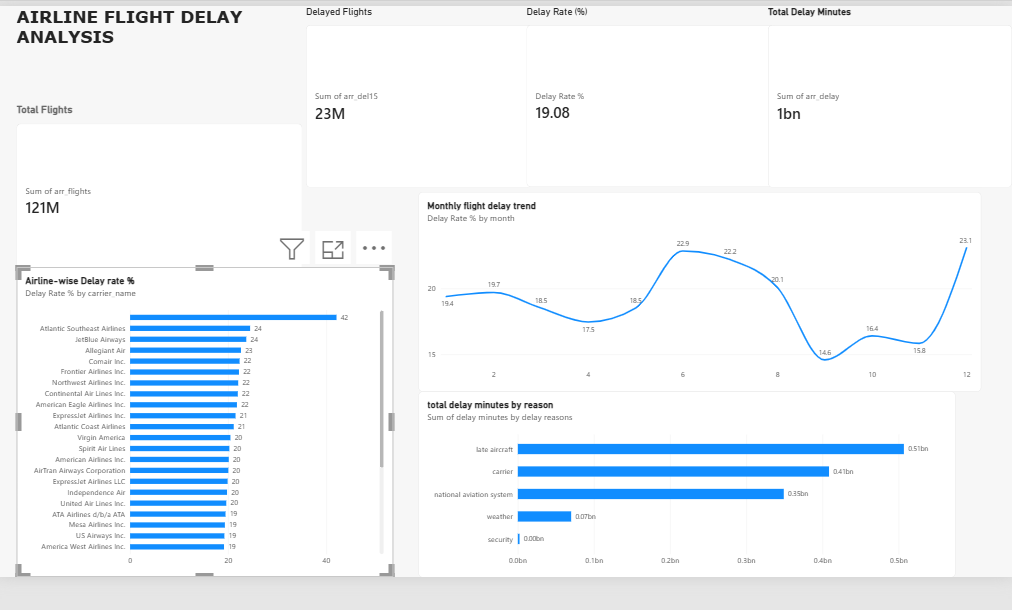

Layout of this report page (visuals, bound fields, positions):
{"tool":"powerbi","page":{"name":"Page 1","canvas":[1920,1080],"ordinal":0},"visuals":[{"type":"cardVisual","title":"Total Flights","fields":{"Data":["Sum(Airline_Delay_Cause.arr_flights)"]},"box":[33.3,0,540,331.7],"z":0},{"type":"cardVisual","title":"Delayed Flights","fields":{"Data":["Sum(Airline_Delay_Cause.arr_del15)"]},"box":[573.3,0,426.7,343.3],"z":1},{"type":"cardVisual","title":"Delay Rate (%)","fields":{"Data":["Airline_Delay_Cause.Delay Rate %"]},"box":[1000,0,473.4,343],"z":2},{"type":"cardVisual","title":"Total Delay Minutes","fields":{"Data":["Sum(Airline_Delay_Cause.arr_delay)"]},"box":[1456.7,0,461.7,343.3],"z":3},{"type":"clusteredBarChart","title":"Airline-wise Delay rate %","fields":{"Category":["Airline_Delay_Cause.carrier_name"],"Y":["Airline_Delay_Cause.Delay Rate %"]},"box":[34,343,711.5,470.6],"z":4},{"type":"lineChart","title":"Monthly flight delay trend","fields":{"Category":["Airline_Delay_Cause.month"],"Y":["Airline_Delay_Cause.Delay Rate %"]},"box":[745.5,411,711.5,377],"z":5},{"type":"clusteredBarChart","fields":{"Y":["Sum(Airline_Delay_Cause.carrier_delay)","Sum(Airline_Delay_Cause.security_delay)","Sum(Airline_Delay_Cause.late_aircraft_delay)","Sum(Airline_Delay_Cause.nas_delay)","Sum(Airline_Delay_Cause.weather_delay)"]},"box":[34,824,712,256],"z":6},{"type":"clusteredBarChart","title":"total delay minutes by reason","fields":{"Category":["Table.delay reasons"],"Y":["Sum(Table.delay minutes)"]},"box":[746,824,712,256],"z":7}]}

Visuals, with their boxes on the page's 1920x1080 design canvas (x1, y1, x2, y2). These are canvas units, not pixel positions in the 1012x610 screenshot, which may show the page scaled, cropped or inside an application window:
"Total Flights" cardVisual: region(33, 0, 573, 332)
"Delayed Flights" cardVisual: region(573, 0, 1000, 343)
"Delay Rate (%)" cardVisual: region(1000, 0, 1473, 343)
"Total Delay Minutes" cardVisual: region(1457, 0, 1918, 343)
"Airline-wise Delay rate %" clusteredBarChart: region(34, 343, 746, 814)
"Monthly flight delay trend" lineChart: region(746, 411, 1457, 788)
clusteredBarChart - Sum(Airline_Delay_Cause.carrier_delay) x Sum(Airline_Delay_Cause.security_delay): region(34, 824, 746, 1080)
"total delay minutes by reason" clusteredBarChart: region(746, 824, 1458, 1080)
